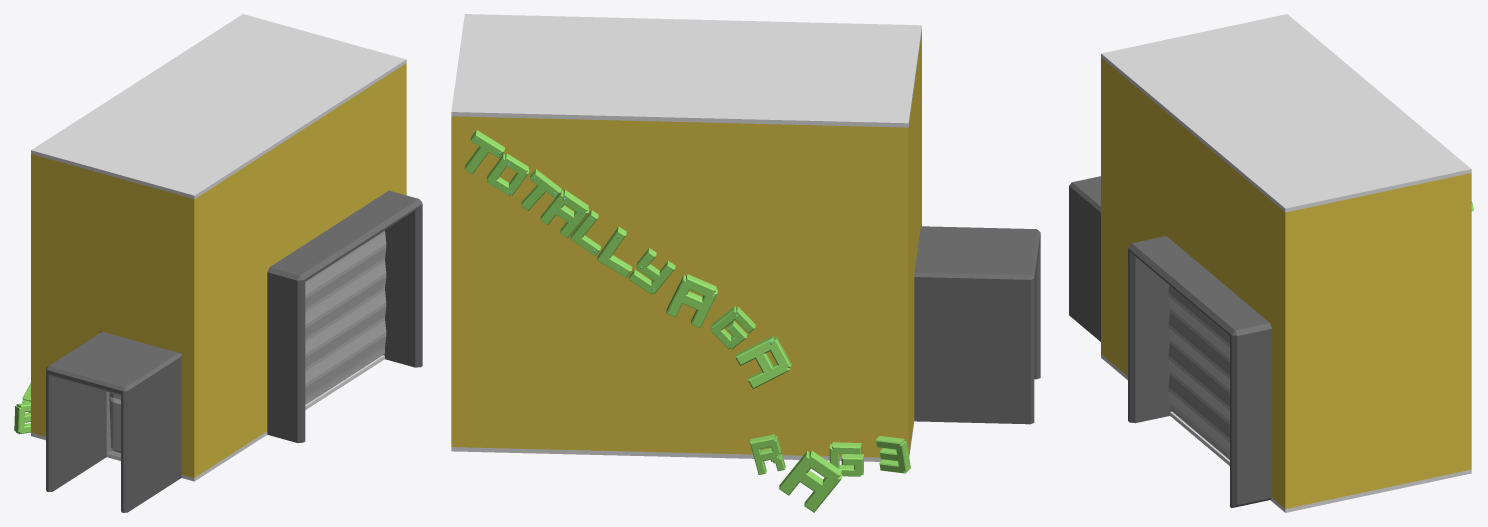
File: Garage.fbx
The picture shows the model from 3 angles, left to right: view 1: azimuth 30°, elevation 25°; view 2: azimuth 150°, elevation 25°; view 3: azimuth 270°, elevation 25°; orthographic projection. The views are drawn at different scales.
Parts seen in each view (by area): view 1: Garage Floor.001, Garage Walls.003, Garage Walls.012, Garage Walls.004, Garage Walls.007, Garage Walls.016, Garage Walls.008, Garage Walls.013, Garage Walls.009, Garage Walls.015, Garage Walls.014, Garage Walls.010 (+5 smaller); view 2: Garage Walls.001, Garage Floor.001, Garage Walls.009, Garage Walls.010, Garage Walls.004, Text.077, Garage Floor, Text.005, Text.056, Garage Walls.007, Garage Walls.008, Text.008 (+10 smaller); view 3: Garage Walls.002, Garage Floor.001, Garage Walls.012, Garage Walls.003, Garage Walls.016, Garage Walls.015, Garage Walls.013, Garage Walls.014, Garage Walls.008, Garage Walls.011, Garage Floor.
Part boxes in pixels (<box>): Garage Floor.001: <box>31,14,406,199</box>; Garage Walls.003: <box>194,153,267,477</box>; Garage Walls.012: <box>265,73,392,271</box>; Garage Walls.004: <box>31,154,100,436</box>; Garage Walls.007: <box>99,173,181,353</box>; Garage Walls.016: <box>305,230,386,404</box>; Garage Walls.008: <box>119,352,181,512</box>; Garage Walls.013: <box>267,264,307,442</box>; Garage Walls.009: <box>46,331,106,491</box>; Garage Walls.015: <box>383,207,422,367</box>; Garage Walls.014: <box>274,190,422,281</box>; Garage Walls.010: <box>49,333,174,395</box>; Garage Walls.001: <box>451,116,908,457</box>; Garage Floor.001: <box>451,14,921,127</box>; Garage Walls.009: <box>914,269,1034,424</box>; Garage Walls.010: <box>915,229,1040,278</box>; Garage Walls.004: <box>908,87,914,453</box>; Text.077: <box>779,450,842,512</box>; Garage Floor: <box>451,418,914,461</box>; Text.005: <box>735,336,791,388</box>; Text.056: <box>666,274,717,328</box>; Garage Walls.007: <box>914,39,920,271</box>; Garage Walls.008: <box>920,226,1040,379</box>; Text.008: <box>540,190,589,238</box>; Garage Walls.002: <box>1285,173,1471,508</box>; Garage Floor.001: <box>1101,14,1471,212</box>; Garage Walls.012: <box>1162,111,1273,328</box>; Garage Walls.003: <box>1101,57,1164,375</box>; Garage Walls.016: <box>1168,285,1229,459</box>; Garage Walls.015: <box>1230,334,1271,507</box>; Garage Walls.013: <box>1128,236,1171,423</box>; Garage Walls.014: <box>1130,239,1271,341</box>; Garage Walls.008: <box>1069,181,1100,341</box>; Garage Walls.011: <box>1272,201,1285,508</box>; Garage Floor: <box>1101,354,1471,512</box>.
Size of the model in its own units: 1198 by 848 by 941.
